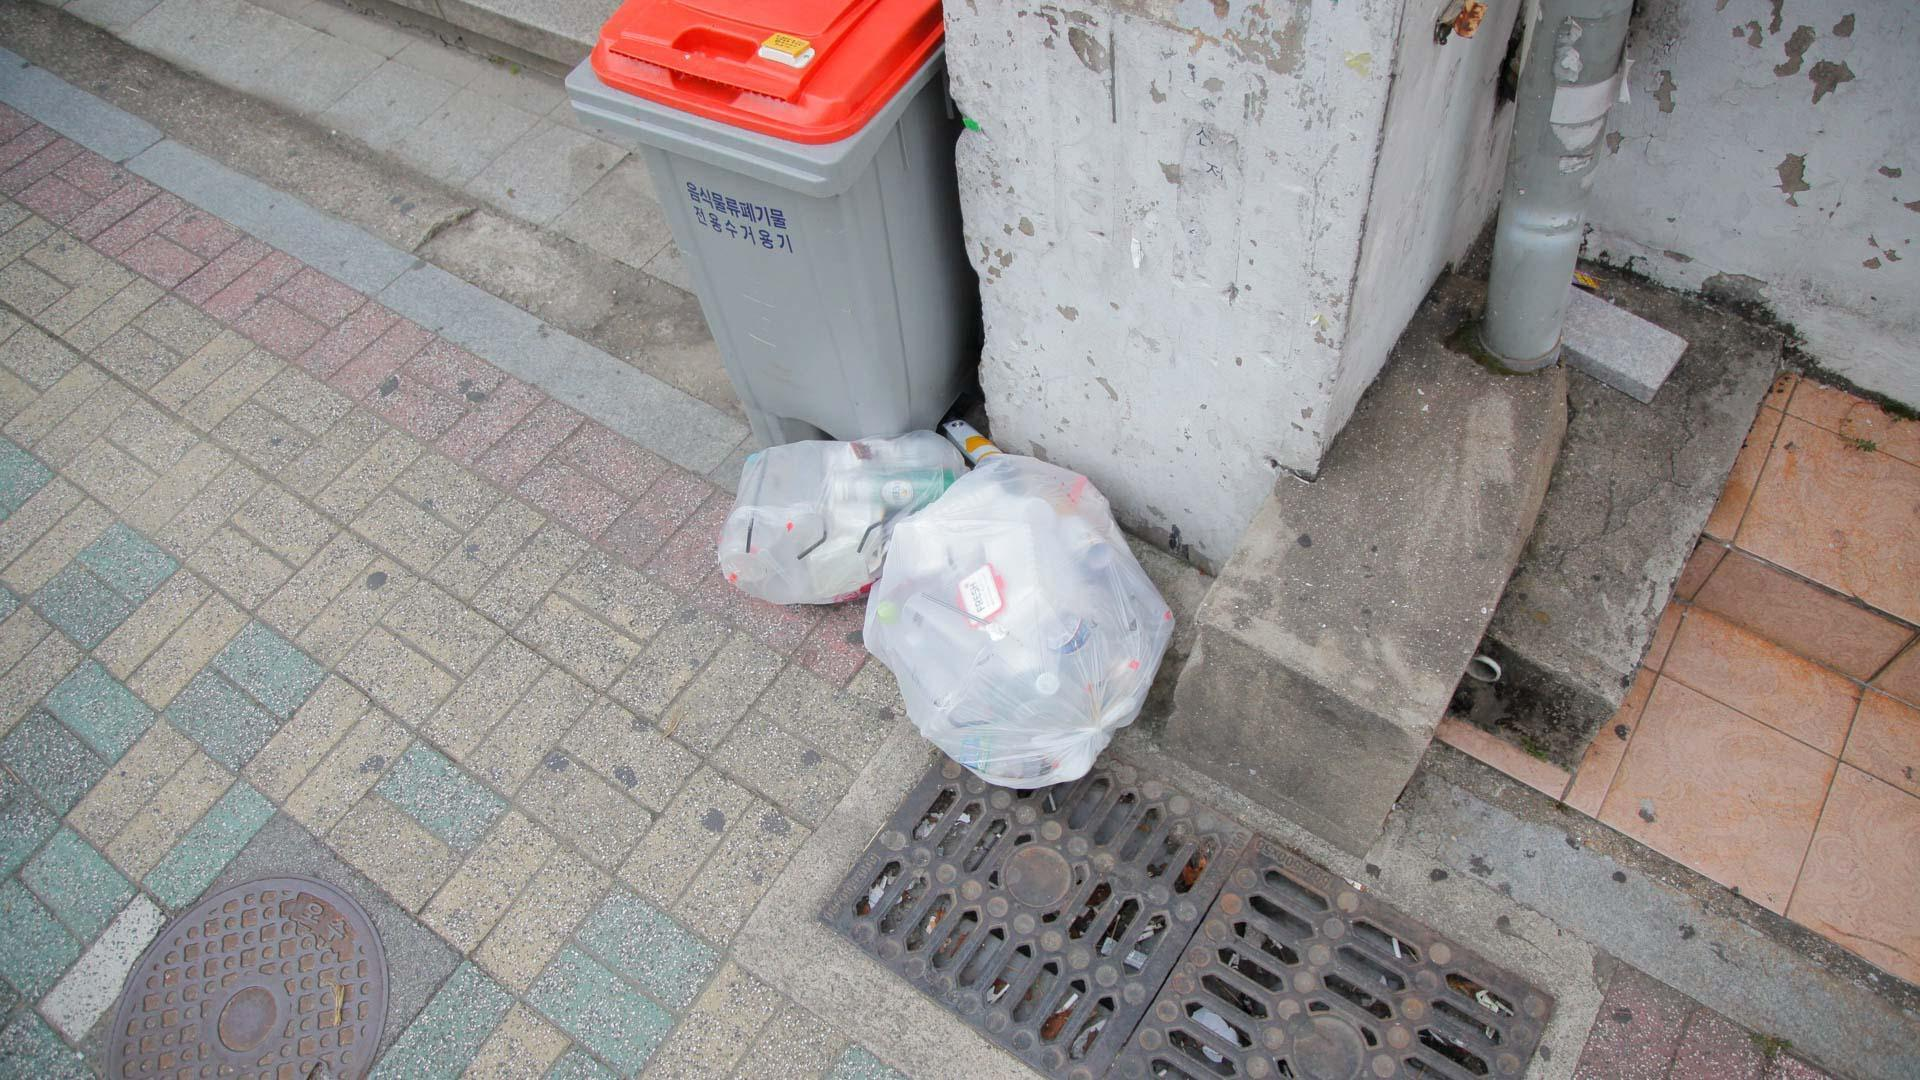white_bag: (847, 448, 1187, 799), (703, 414, 975, 609)
